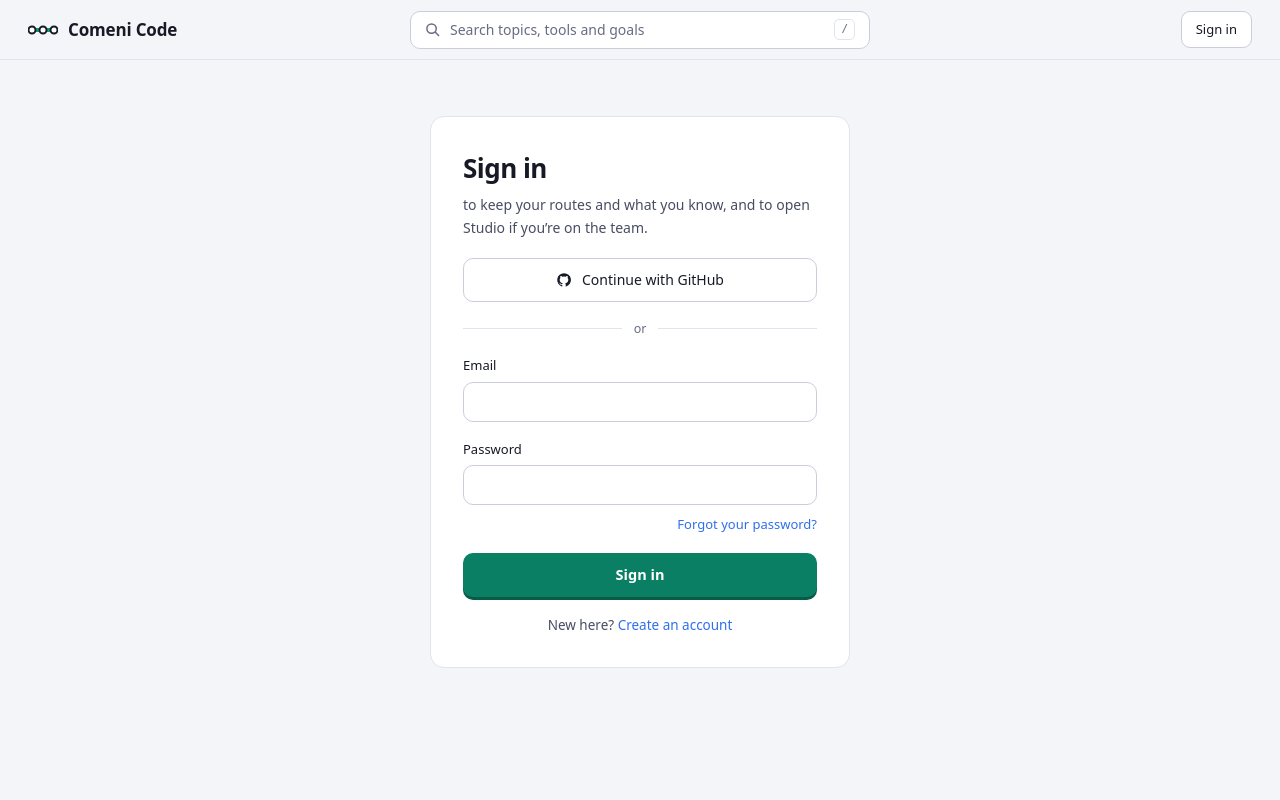
Test: SignInPage › shows allauth's sentence beside its field
In the field labelled "Email": x=640, y=402 [463,382,817,422], type "a@b.c"
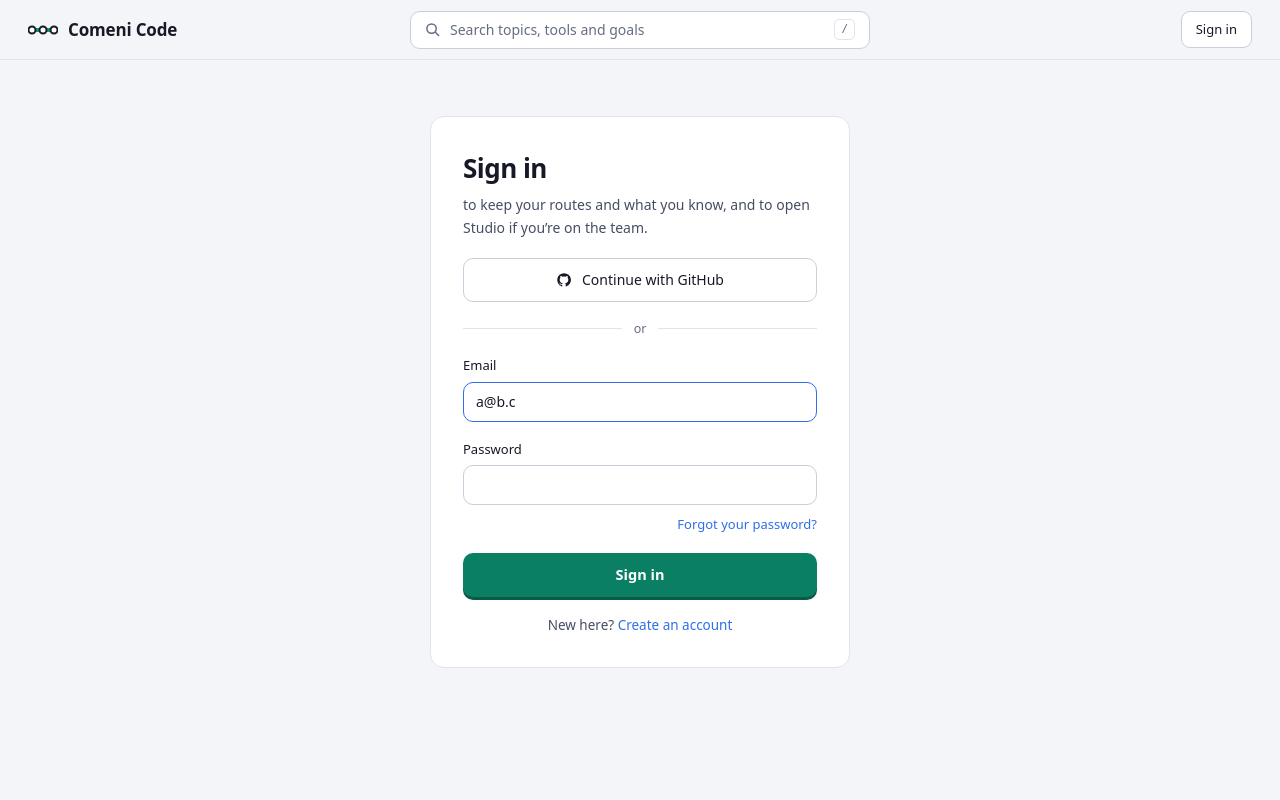
In the password field labelled "Password": x=640, y=485 [463,465,817,505], type "x"
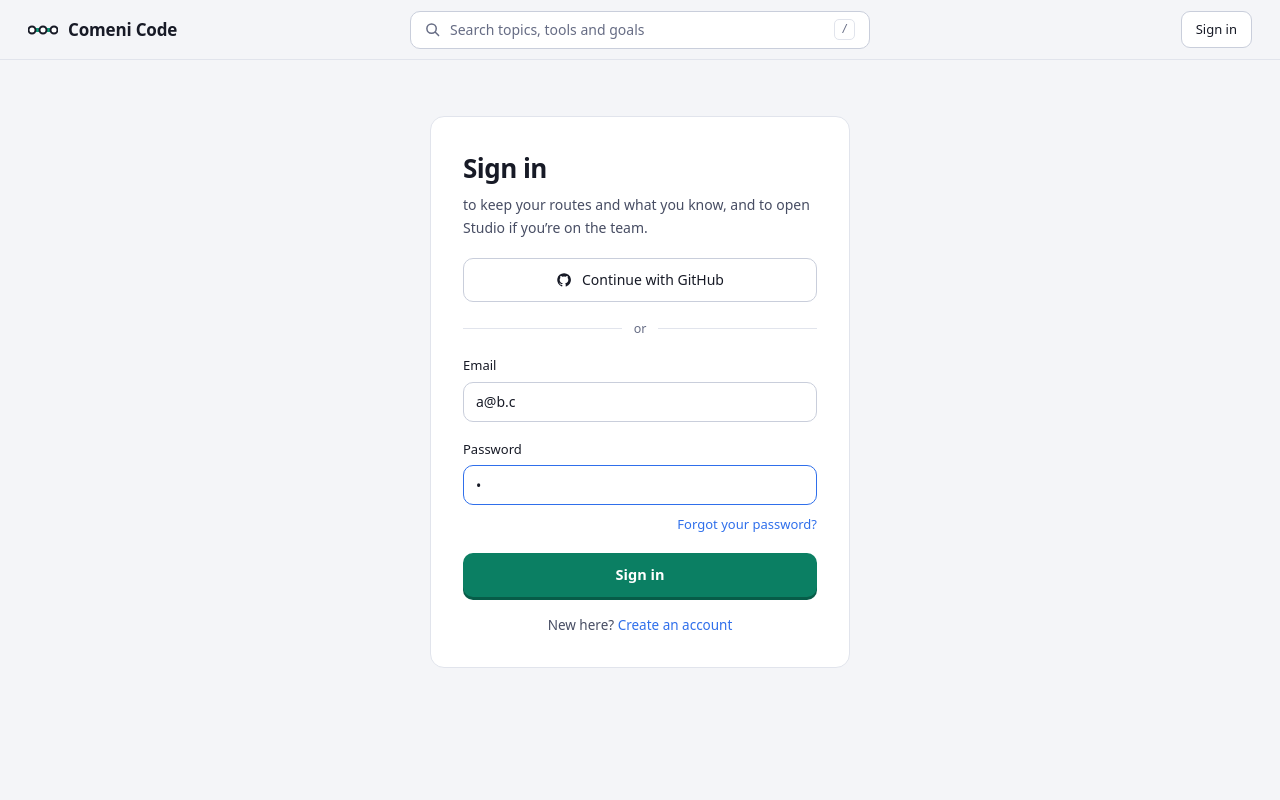
Click the button "Sign in": x=640, y=575 [463,553,817,597]
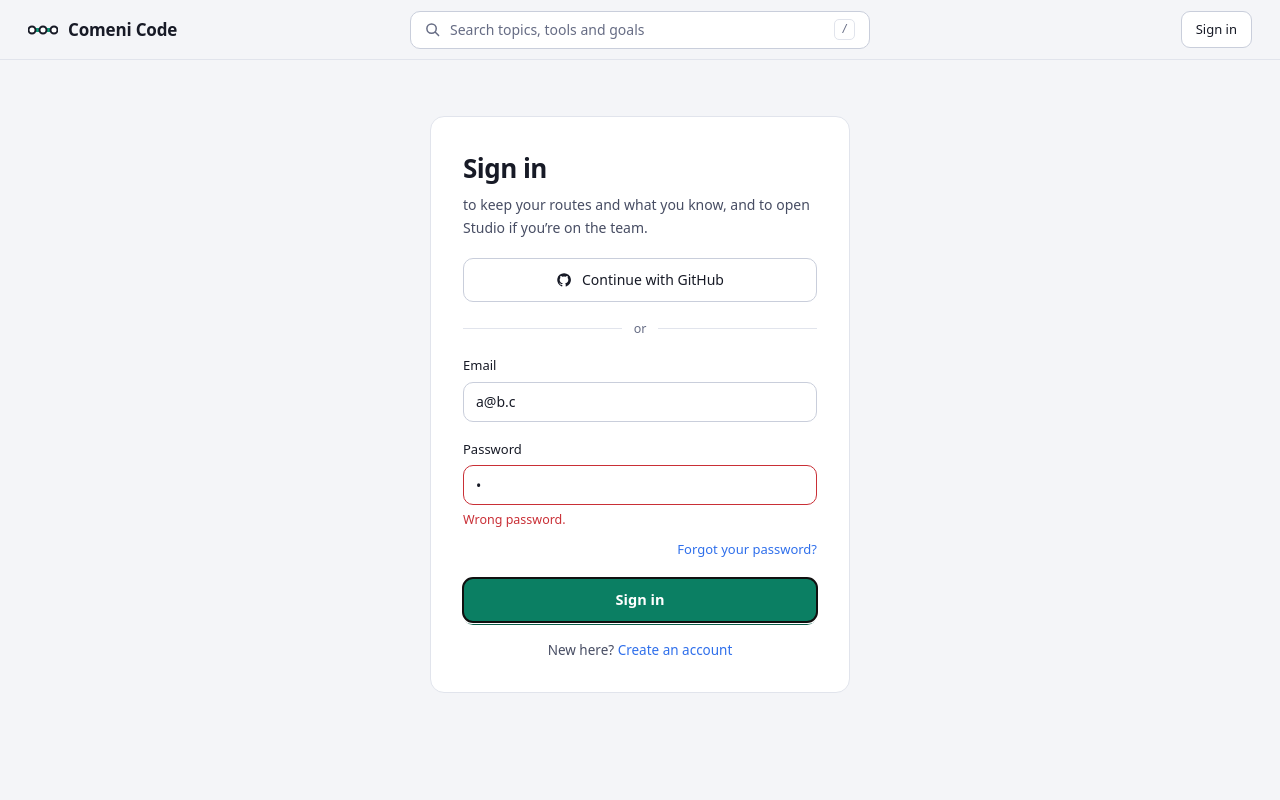
Expected: the text "Wrong password." is shown, [463,511,566,528]
